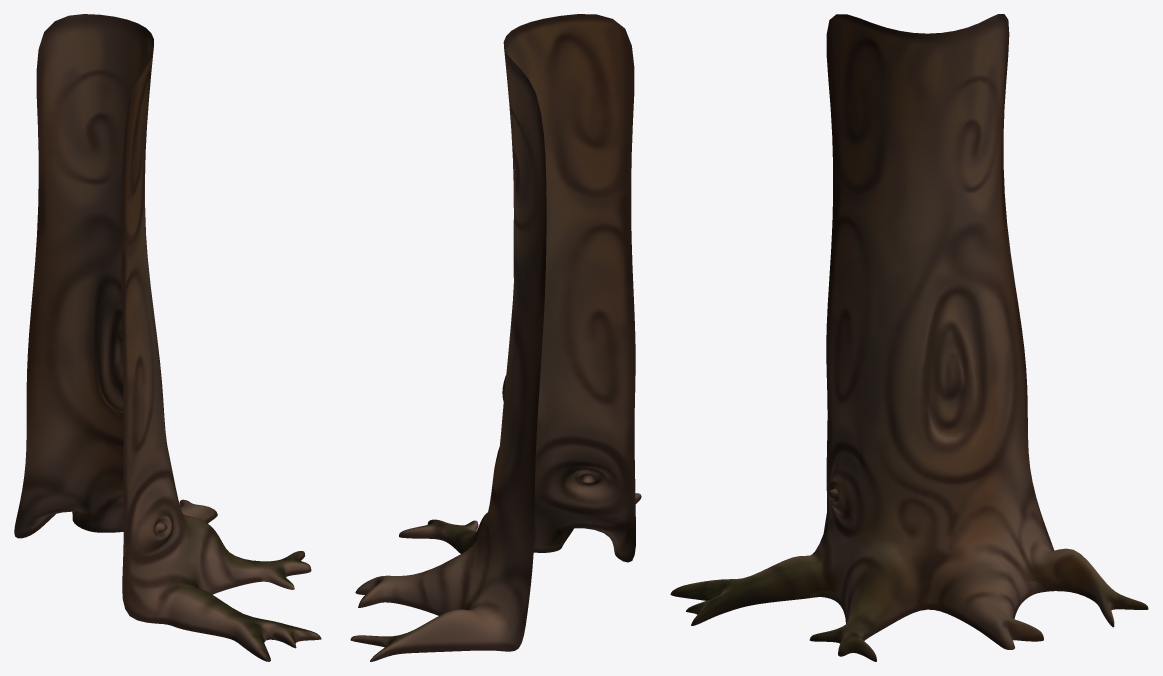
File: Tree_1.fbx
The picture shows the model from 3 angles, left to right: view 1: azimuth 30°, elevation 25°; view 2: azimuth 150°, elevation 25°; view 3: azimuth 270°, elevation 25°; orthographic projection. The views are drawn at different scales.
Parts seen in each view (by area): view 1: Arbol_1; view 2: Arbol_1; view 3: Arbol_1.
Part boxes in pixels (box(x1,y1,x2,y2)): Arbol_1: box(14, 14, 321, 661); Arbol_1: box(350, 14, 641, 661); Arbol_1: box(670, 14, 1148, 661).
Bounding box in the file's own units: 227 × 572 × 441.
1 material, 1 textured.
